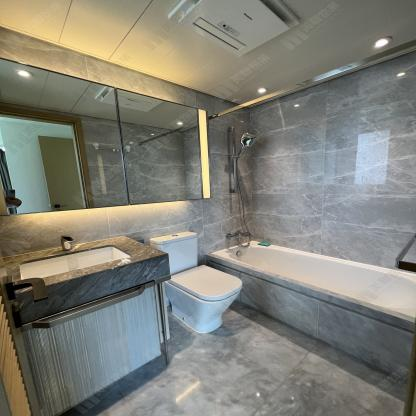Bathtub: (205, 240, 416, 386)
Toilet: (149, 231, 244, 333)
Toilet Sink: (3, 235, 172, 325)
